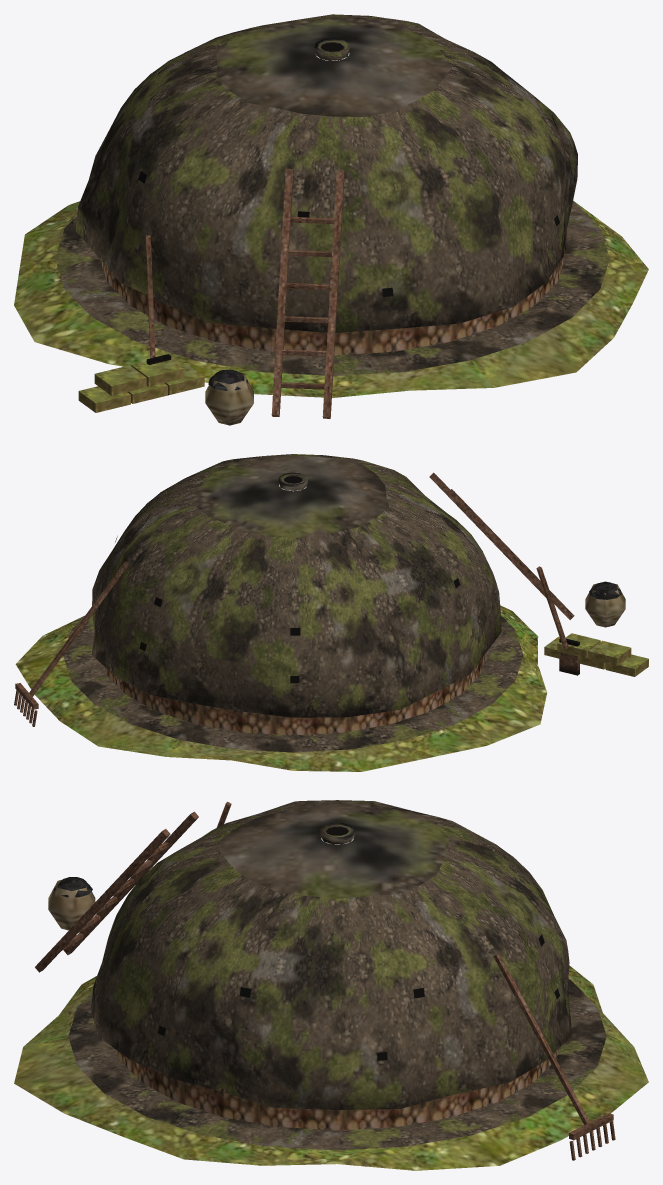
The model's file is milir.glb.
The picture shows the model from 3 angles, top to bottom: view 1: azimuth 30°, elevation 25°; view 2: azimuth 150°, elevation 25°; view 3: azimuth 270°, elevation 25°; orthographic projection. The views are drawn at different scales.
Parts seen in each view (by area): view 1: milir; view 2: milir; view 3: milir.
Boxes of the visible parts, box(x1,y1,x2,y2) form: milir: box(14, 14, 648, 425); milir: box(14, 454, 648, 771); milir: box(14, 800, 648, 1170).
Size of the model in its own units: 6.43 by 2.44 by 6.13.
Materials: 1 (1 with a texture image).
